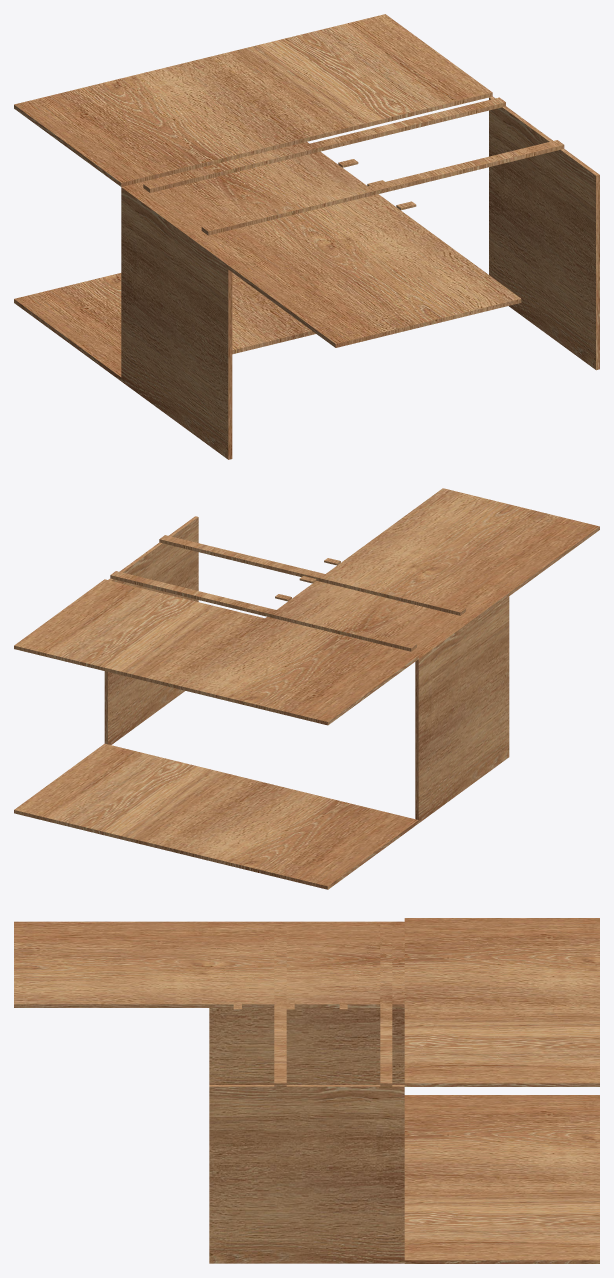
The model's file is 49088_gpt-only.glb.
3 views of the same model, one above another, from view 1: azimuth 30°, elevation 25°; view 2: azimuth 150°, elevation 25°; view 3: azimuth 270°, elevation 25° (orthographic). The views are drawn at different scales.
Visible parts, largest first — view 1: ParentEmpty; view 2: ParentEmpty; view 3: ParentEmpty.
Boxes of the visible parts, x1,y1,x2,y2 form: ParentEmpty: (14, 14, 599, 459); ParentEmpty: (14, 488, 599, 889); ParentEmpty: (14, 918, 599, 1263).
Size of the model in its own units: 0.6667 by 0.3406 by 1.
1 material, 1 textured.
